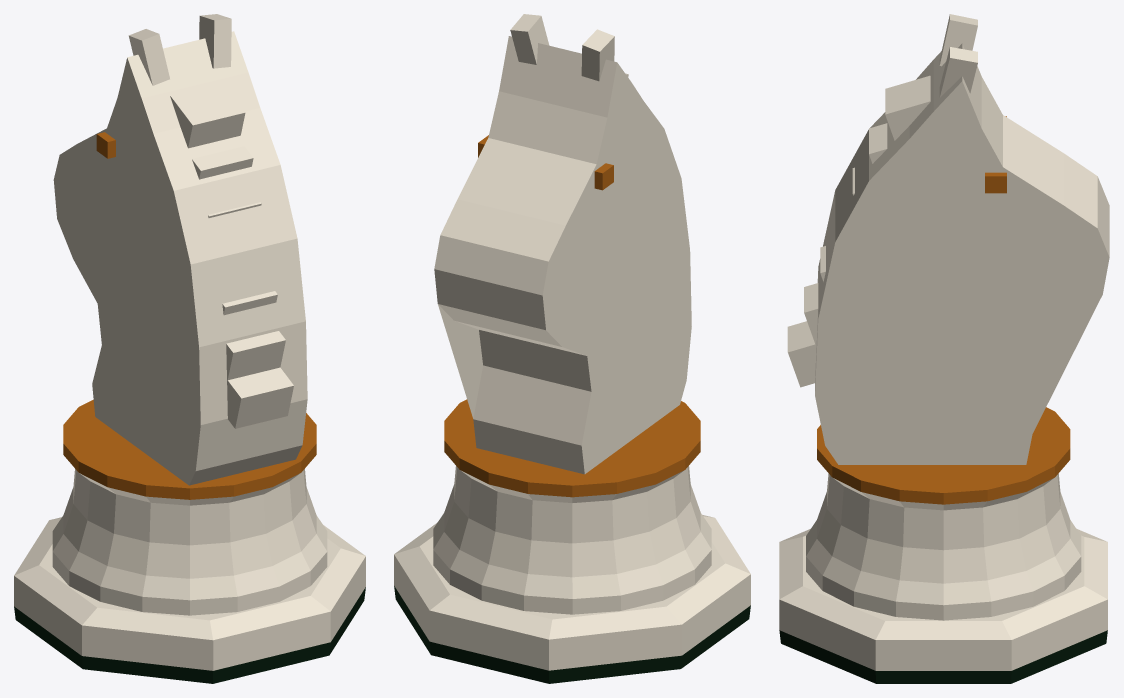
Rendered from cozy_chess_white_knight.obj.
3 views of the same model, side by side, from view 1: azimuth 30°, elevation 25°; view 2: azimuth 150°, elevation 25°; view 3: azimuth 270°, elevation 25° (orthographic).
Parts seen in each view (by area): view 1: Chess_White_Knight_Mesh; view 2: Chess_White_Knight_Mesh; view 3: Chess_White_Knight_Mesh.
Part boxes in pixels (x1,y1,x2,y2): Chess_White_Knight_Mesh: (14, 14, 365, 683); Chess_White_Knight_Mesh: (394, 14, 750, 683); Chess_White_Knight_Mesh: (779, 14, 1109, 683).
Bounding box in the file's own units: 0.0407 × 0.0796 × 0.041.
